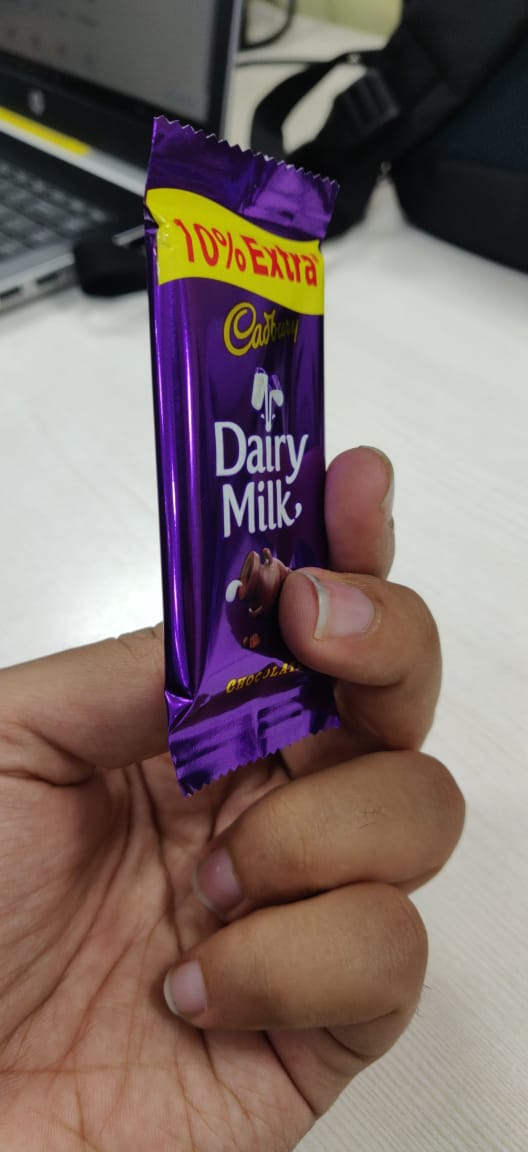dairy milk: (124, 91, 364, 806)
